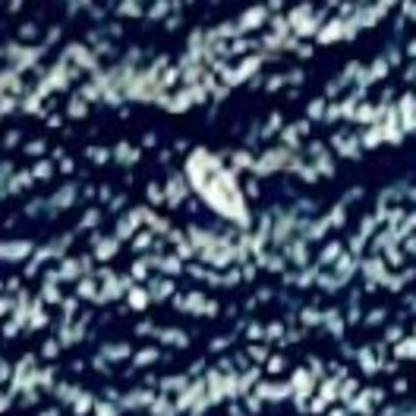ship: (172, 136, 258, 233)
